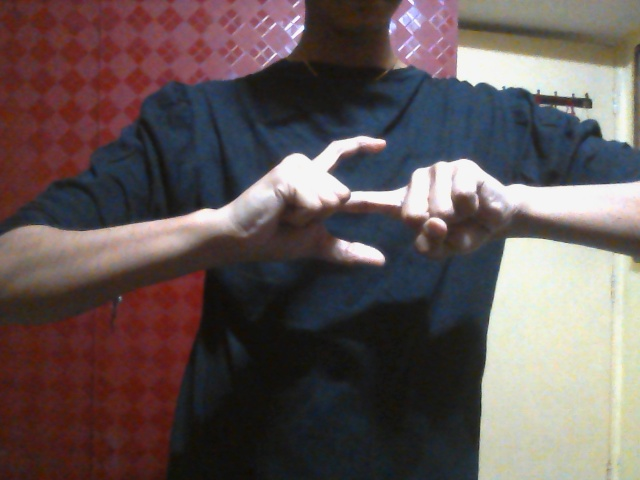E: (224, 133, 510, 272)
